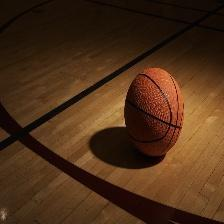Sports-Ball: (123, 71, 184, 155)
